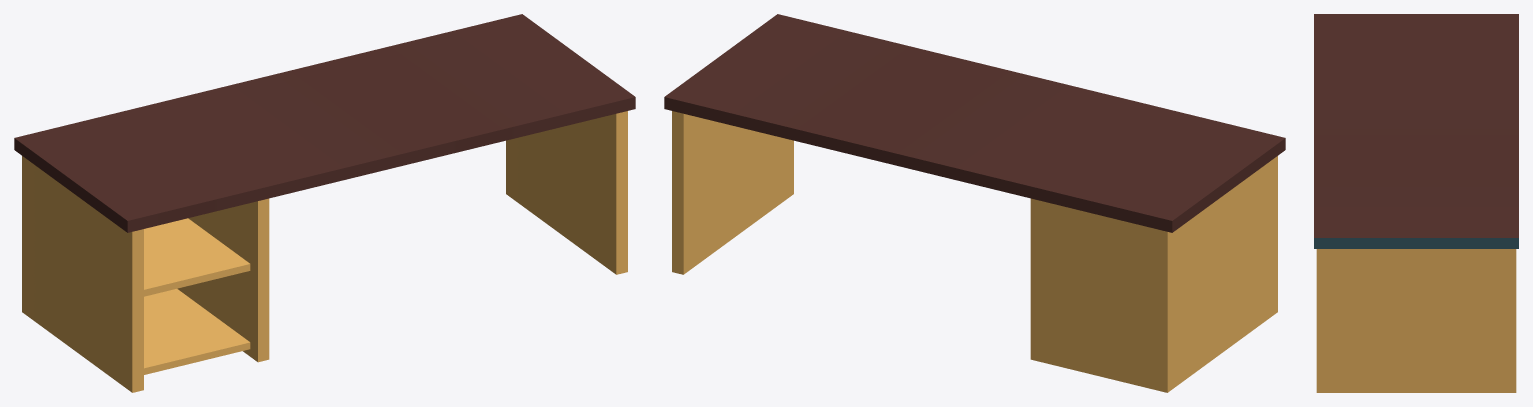
The model's file is office_table_027.glb.
3 views of the same model, side by side, from view 1: azimuth 30°, elevation 25°; view 2: azimuth 150°, elevation 25°; view 3: azimuth 270°, elevation 25° (orthographic). The views are drawn at different scales.
Parts seen in each view (by area): view 1: office_table_027; view 2: office_table_027; view 3: office_table_027.
Part boxes in pixels (left/top/right/bottom): office_table_027: left=14, top=14, right=635, bottom=392; office_table_027: left=664, top=14, right=1285, bottom=392; office_table_027: left=1314, top=14, right=1518, bottom=392.
Size of the model in its own units: 2.18 by 0.7155 by 0.8421.
1 material, 1 textured.
